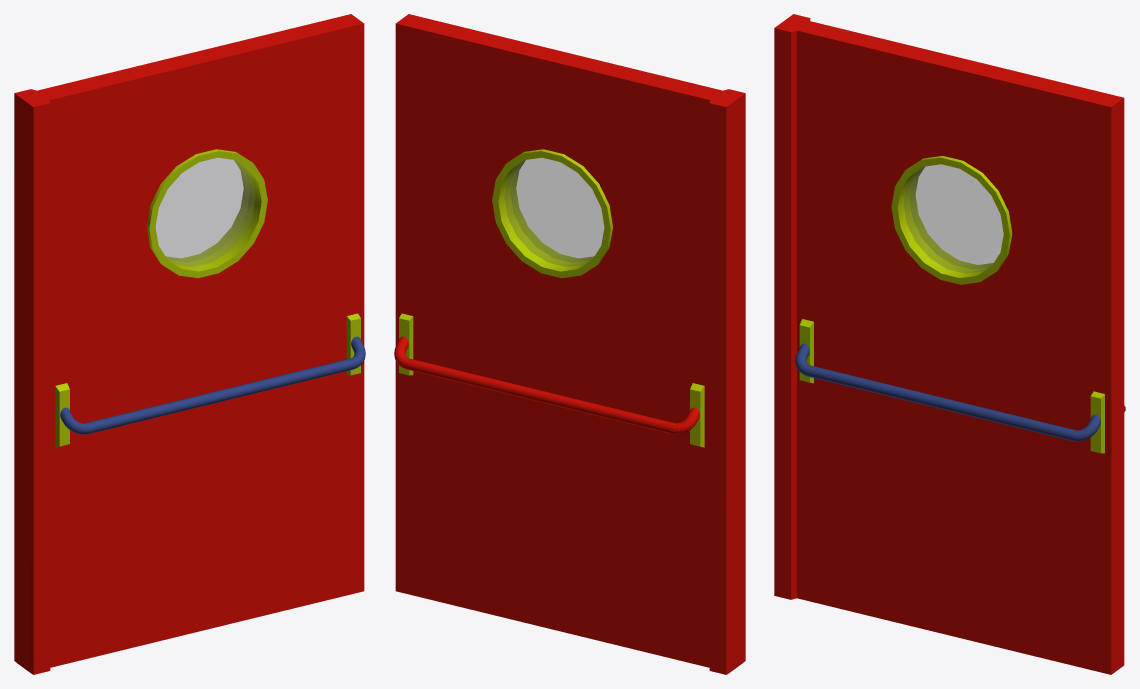
Rendered from DoorLeft_Model.FBX.
3 renders of one model, left to right at view 1: azimuth 30°, elevation 25°; view 2: azimuth 150°, elevation 25°; view 3: azimuth 330°, elevation 25°, orthographic.
Parts seen in each view (by area): view 1: DoorLeft_Model; view 2: DoorLeft_Model; view 3: DoorLeft_Model.
Part boxes in pixels (box(x1,y1,x2,y2)): DoorLeft_Model: box(14, 14, 365, 674); DoorLeft_Model: box(394, 14, 745, 674); DoorLeft_Model: box(774, 14, 1125, 674).
Bounding box in the file's own units: 85.07 × 138 × 19.22.
